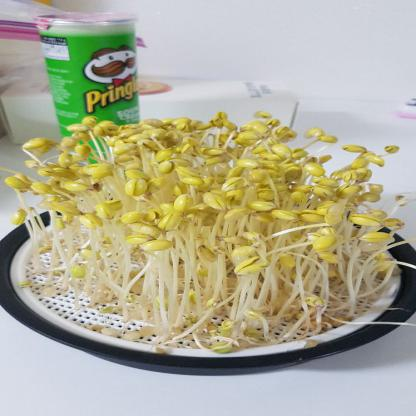bean sprouts: (48, 123, 402, 317)
